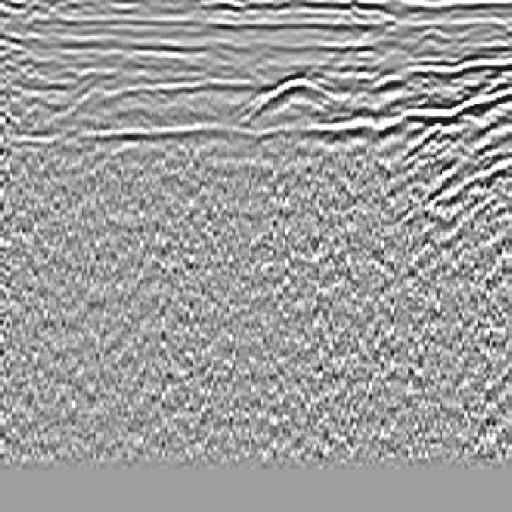metalic: (228, 58, 364, 123)
non-metallic: (388, 68, 512, 215)
